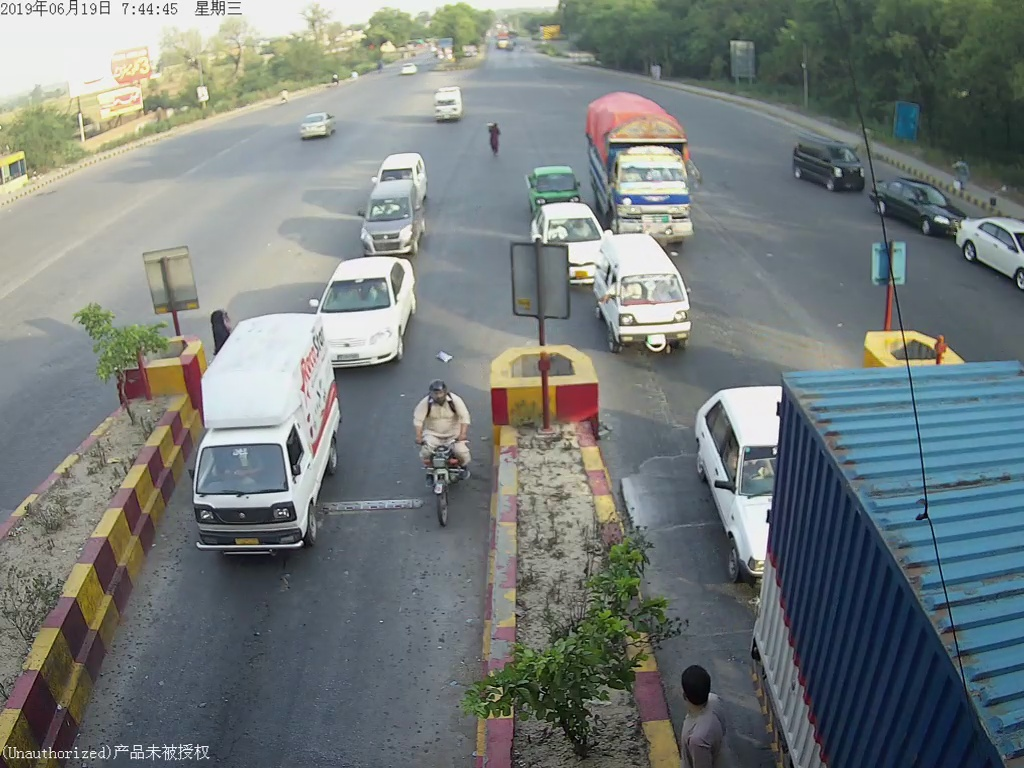Cat-1: (190, 329, 343, 553), (594, 237, 694, 363), (319, 259, 419, 354), (367, 186, 424, 258)
Cat-4: (587, 93, 695, 225)
